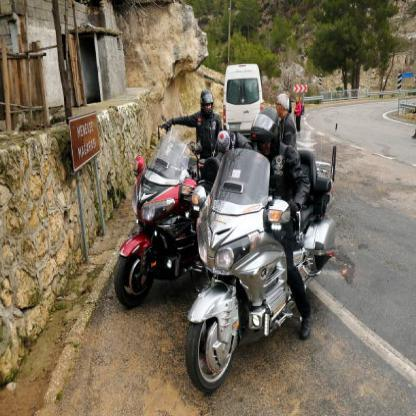Motorcycle: (183, 139, 340, 408), (104, 128, 211, 313)
